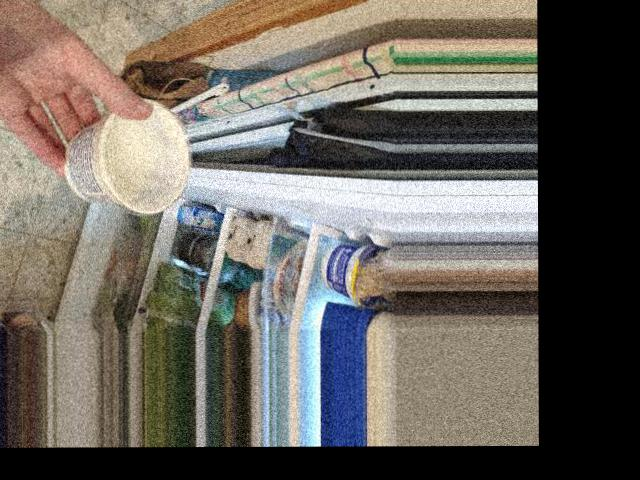cotage: (65, 112, 185, 212)
